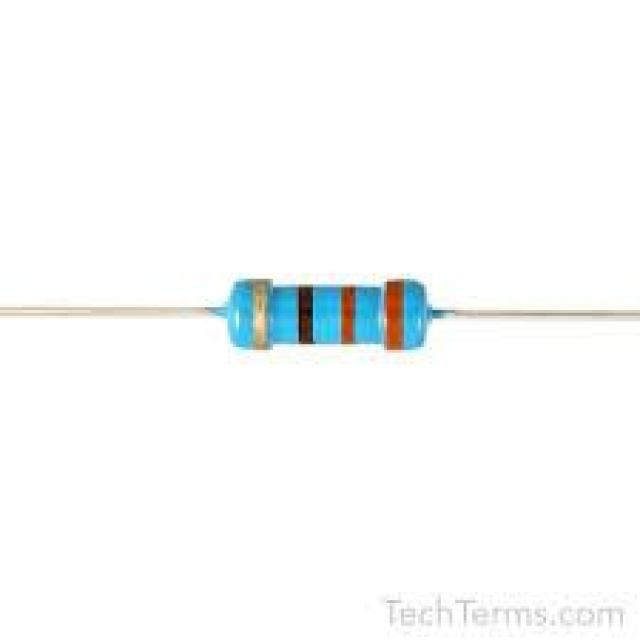Resistor: (0, 282, 640, 353)
